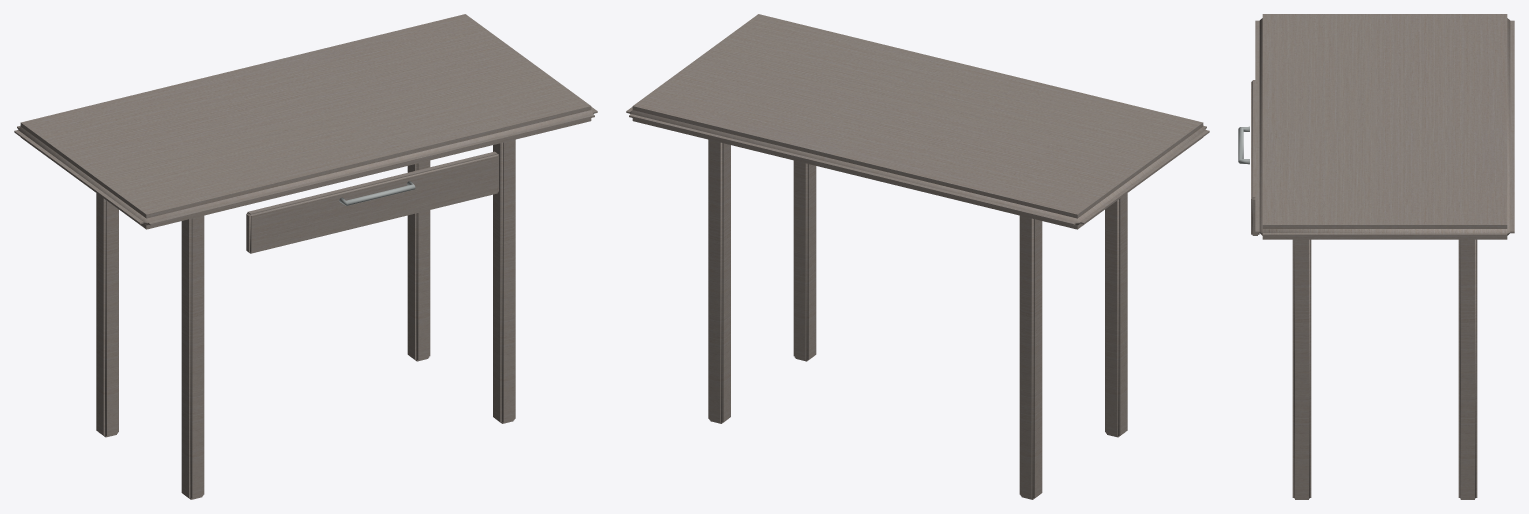
Rendered from modern.desk.gltf.
3 renders of one model, left to right at view 1: azimuth 30°, elevation 25°; view 2: azimuth 150°, elevation 25°; view 3: azimuth 270°, elevation 25°, orthographic. The views are drawn at different scales.
Parts seen in each view (by area): view 1: modern.desk.rounded-top; view 2: modern.desk.rounded-top; view 3: modern.desk.rounded-top.
Boxes of the visible parts, <box> form: modern.desk.rounded-top: <box>14,14,597,499</box>; modern.desk.rounded-top: <box>626,14,1209,499</box>; modern.desk.rounded-top: <box>1238,14,1514,499</box>.
Bounding box in the file's own units: 1.15 × 0.75 × 0.618.
Materials: 2 (1 with a texture image).
